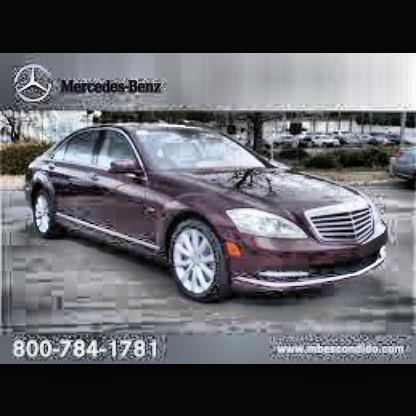Mercedes-Benz S-Class Sedan 2012: (23, 124, 387, 300)
